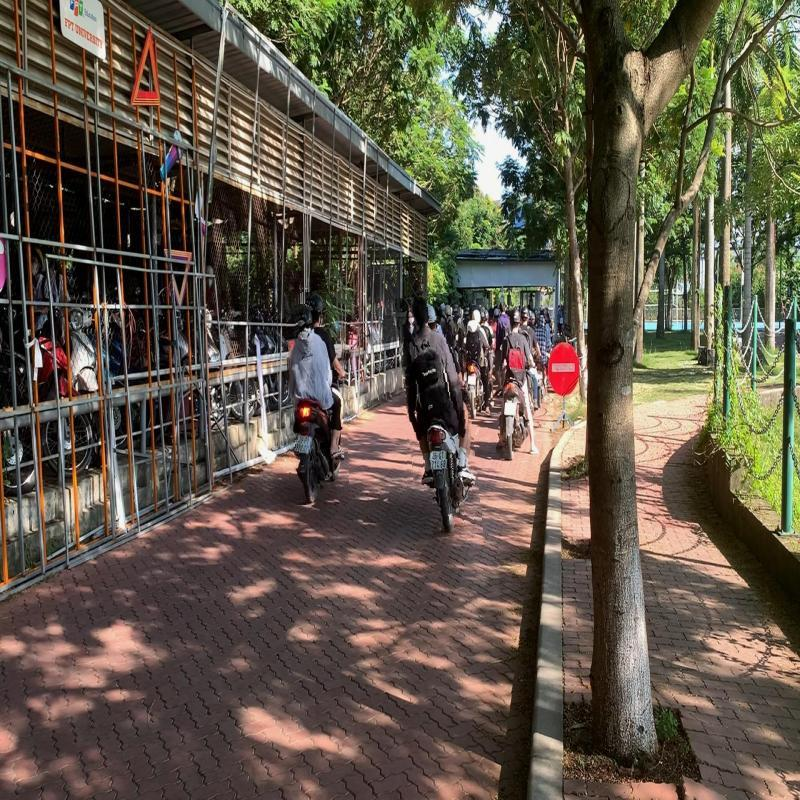helmet: (309, 292, 326, 327), (297, 304, 315, 333)
licenseplate: (425, 451, 443, 472), (294, 434, 312, 455)
motorcyclist: (401, 294, 477, 538), (287, 292, 349, 505)
nohelmet: (422, 294, 441, 332)
